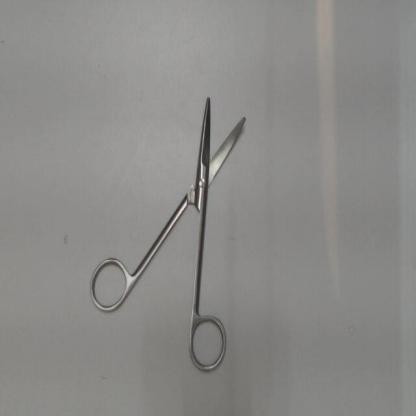Curved Mayo Scissors: (84, 86, 253, 385)
